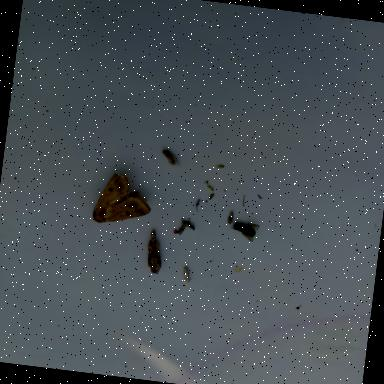abw: (90, 170, 156, 231)
